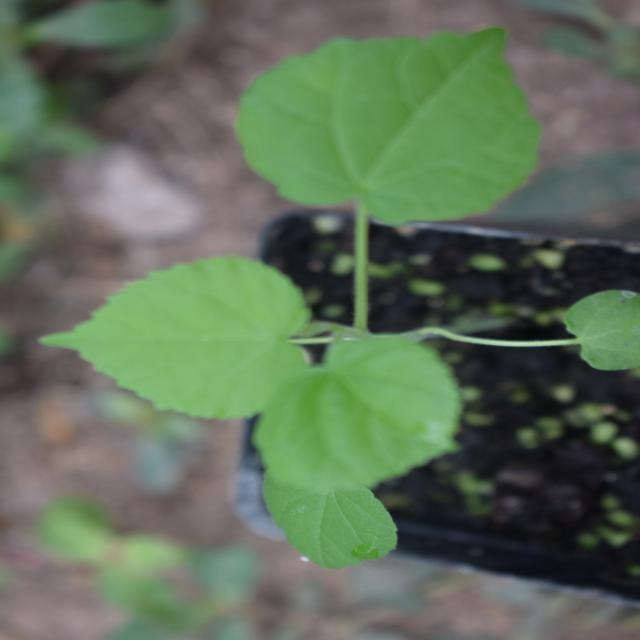abutilon theophrasti: (82, 72, 608, 564)
